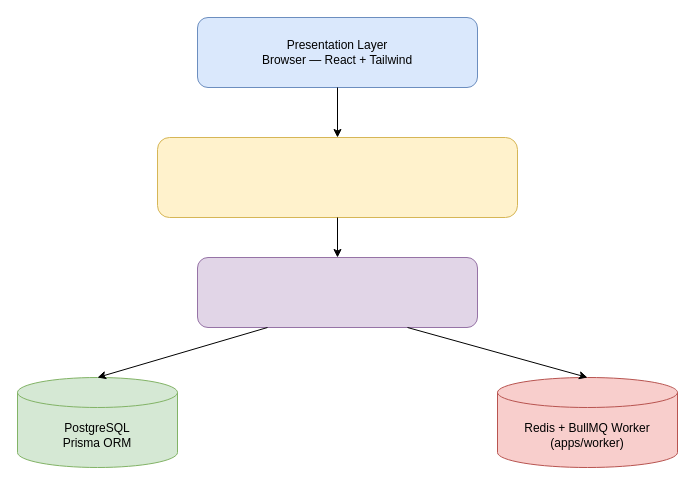
Some shapes in this 695 by 485 pixel diagram are drawn without their labels. The shapes that lost their labels are listed below. From the top down, each one's centre as x and y in pixels, then its label:
the point at 337,177: Next.js Application (apps/web) Middleware · API Routes · NextAuth
the point at 337,292: Business Logic Conflict · Approval · Notifications
